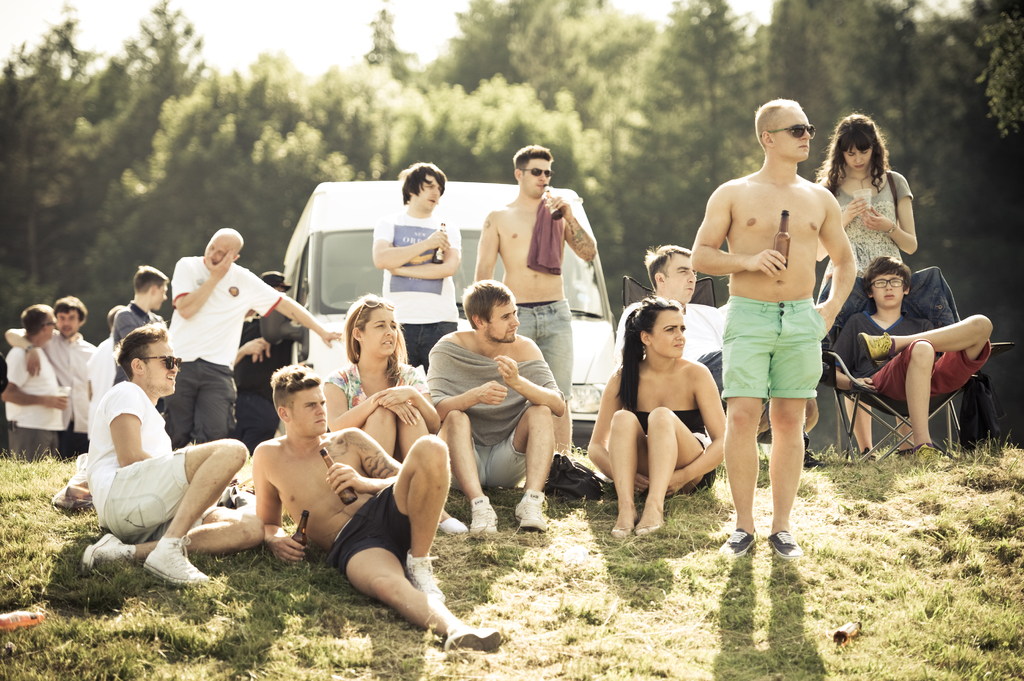Footwear: (141, 534, 210, 588), (79, 530, 132, 572), (444, 620, 504, 648), (514, 487, 548, 534), (409, 547, 440, 598), (717, 525, 760, 558), (471, 500, 495, 538), (770, 529, 800, 557), (438, 516, 467, 534), (606, 524, 631, 538), (635, 524, 660, 534)
